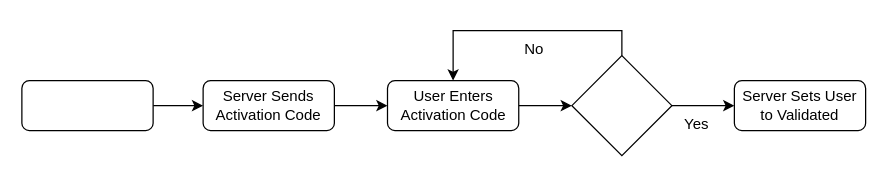
Image size: 888x178. Some labels were removed from this diagram. The shapes that lost their labels are listed below. From the top down, each one's box as (x1, y1, x2, y2) in pixels, then its label:
(21, 79, 153, 131): User Clicks Activation Button
(571, 54, 672, 156): Valid Code?
